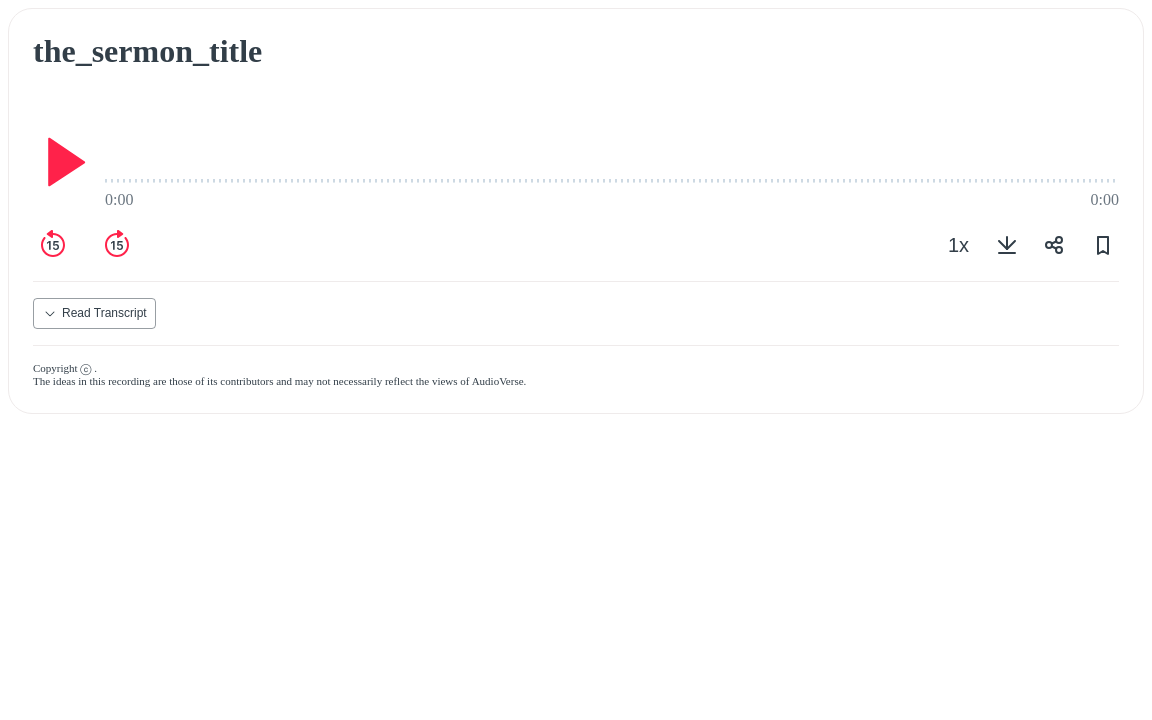
Test: sermon detail page › includes transcripts
The width and height of the screenshot is (1152, 720).
Click the button "Read Transcript".
click(94, 314)  # box left=33, top=298, right=156, bottom=329
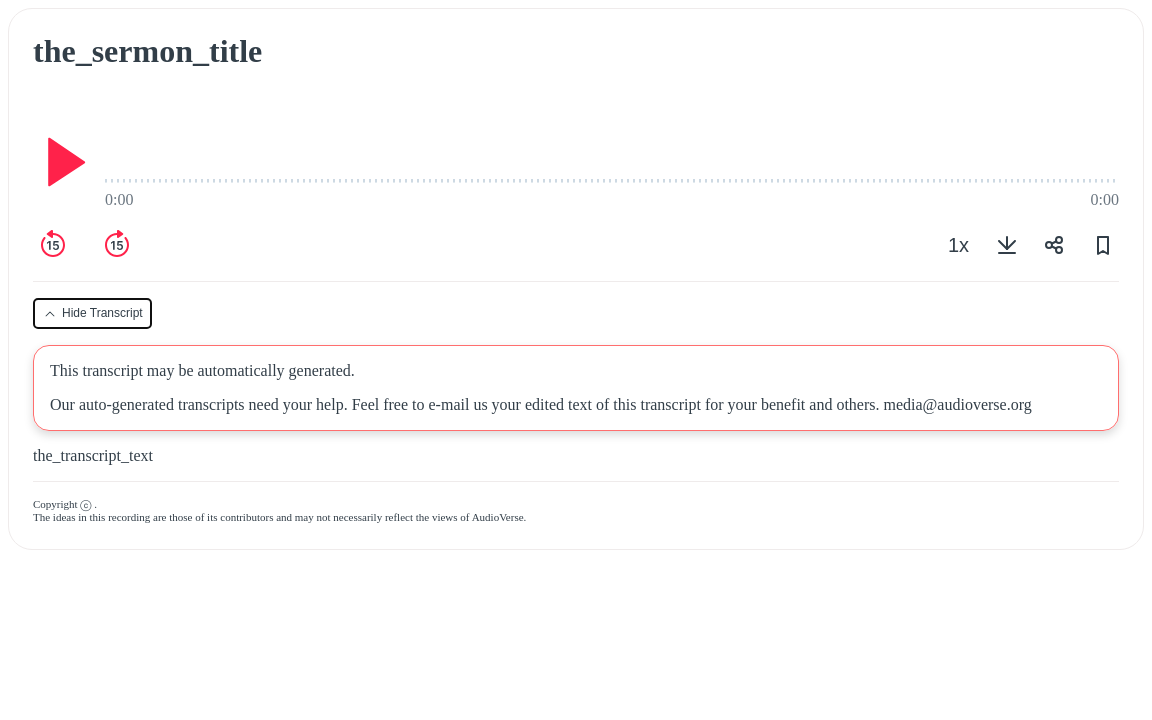
Expected: the text "the_transcript_text" is shown, left=33, top=447, right=153, bottom=464
